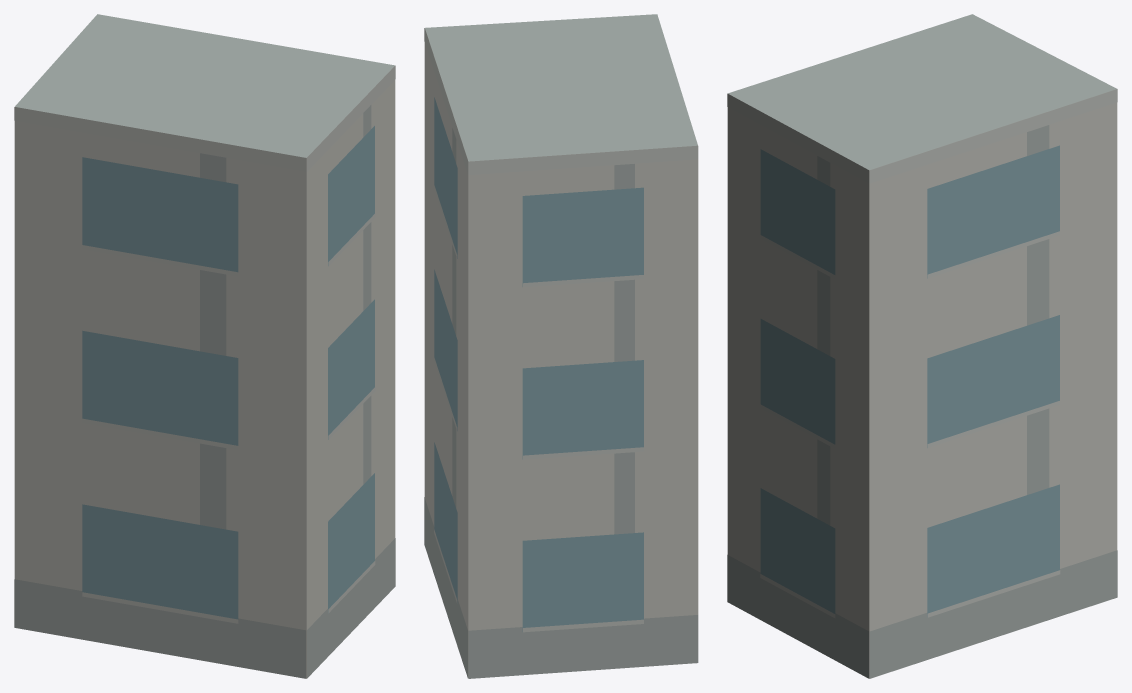
The model's file is survey-upis-32571799.glb.
3 views of the same model, side by side, from view 1: azimuth 30°, elevation 25°; view 2: azimuth 150°, elevation 25°; view 3: azimuth 270°, elevation 25° (orthographic). The views are drawn at different scales.
Visible parts, largest first — view 1: survey-upis-32571799.tmp; view 2: survey-upis-32571799.tmp; view 3: survey-upis-32571799.tmp.
Part boxes in pixels (box(x1,y1,x2,y2)): survey-upis-32571799.tmp: box(14, 14, 395, 678); survey-upis-32571799.tmp: box(424, 14, 698, 678); survey-upis-32571799.tmp: box(727, 14, 1117, 678).
Size of the model in its own units: 6.04 by 9.15 by 6.37.
